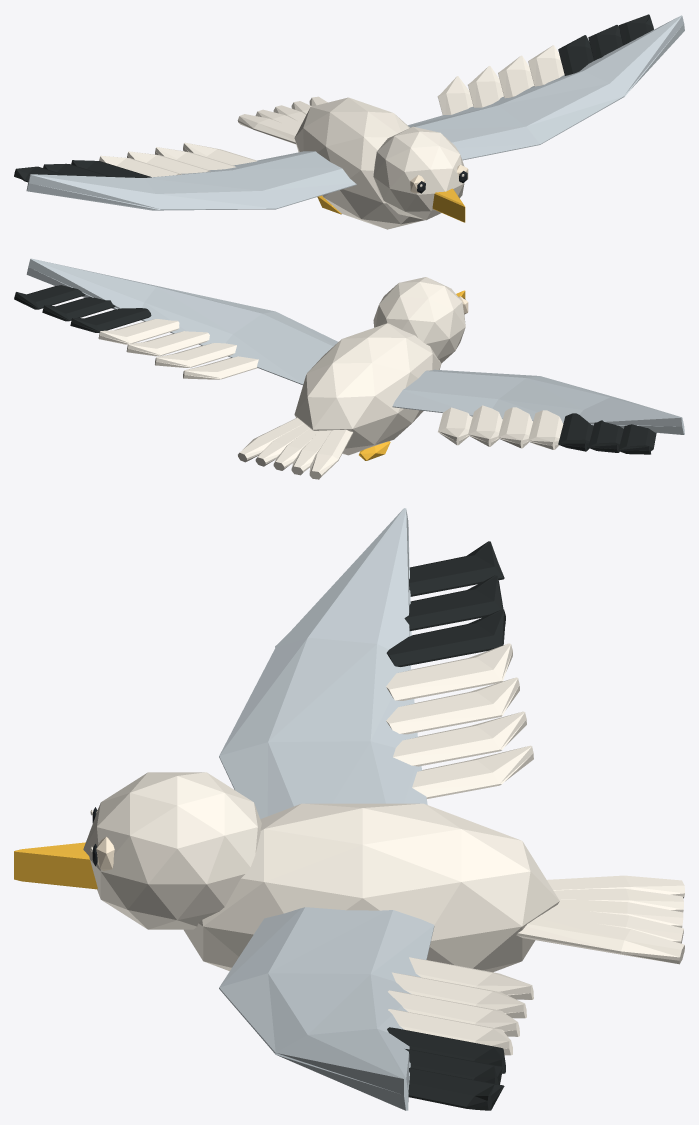
Rendered from flying-seabird.glb.
3 views of the same model, one above another, from view 1: azimuth 30°, elevation 25°; view 2: azimuth 150°, elevation 25°; view 3: azimuth 270°, elevation 25° (orthographic). The views are drawn at different scales.
Visible parts, largest first — view 1: Flying Seabird geometry Wing right, Flying Seabird geometry Wing left, Flying Seabird geometry Body, Flying Seabird geometry Tail; view 2: Flying Seabird geometry Wing right, Flying Seabird geometry Body, Flying Seabird geometry Wing left, Flying Seabird geometry Tail; view 3: Flying Seabird geometry Body, Flying Seabird geometry Wing left, Flying Seabird geometry Wing right, Flying Seabird geometry Tail.
Boxes of the visible parts, left/top/right/bottom form: Flying Seabird geometry Wing right: left=408, top=14, right=684, bottom=160; Flying Seabird geometry Wing left: left=14, top=142, right=356, bottom=210; Flying Seabird geometry Body: left=294, top=97, right=468, bottom=229; Flying Seabird geometry Tail: left=237, top=96, right=327, bottom=144; Flying Seabird geometry Wing right: left=14, top=258, right=337, bottom=384; Flying Seabird geometry Body: left=294, top=277, right=468, bottom=460; Flying Seabird geometry Wing left: left=392, top=369, right=684, bottom=454; Flying Seabird geometry Tail: left=238, top=417, right=353, bottom=479; Flying Seabird geometry Body: left=14, top=772, right=559, bottom=972; Flying Seabird geometry Wing left: left=219, top=508, right=533, bottom=818; Flying Seabird geometry Wing right: left=219, top=907, right=533, bottom=1110; Flying Seabird geometry Tail: left=516, top=875, right=684, bottom=964.
Size of the model in its own units: 1.73 by 0.305 by 0.8506.
